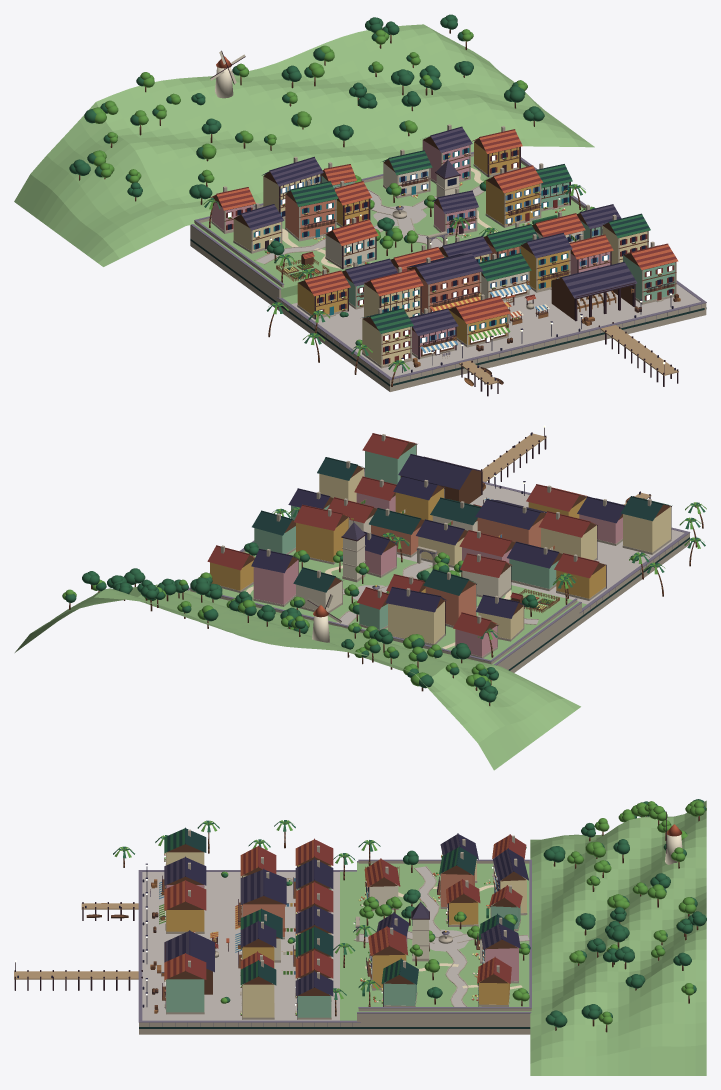
Rendered from port.glb.
The picture shows the model from 3 angles, top to bottom: view 1: azimuth 30°, elevation 25°; view 2: azimuth 150°, elevation 25°; view 3: azimuth 270°, elevation 25°; orthographic projection. The views are drawn at different scales.
Visible parts, largest first — view 1: ground_grass_colline, props, ground_cobble, ground_grass_haute, bldg_chantier, bldg_taverne, bldg_haut_se2, bldg_haut_no2, bldg_maison_w1, bldg_maison_e1, bldg_magasin, bldg_maison_n1 (+26 smaller); view 2: props, ground_grass_colline, ground_grass_haute, bldg_haut_no5, ground_cobble, bldg_maison_w1, bldg_haut_se2, bldg_chantier, bldg_taverne, bldg_haut_ne2, bldg_maison_n1, bldg_fond1 (+24 smaller); view 3: ground_grass_colline, props, ground_cobble, ground_grass_haute, ground_grass, bldg_maison_e1, bldg_magasin, bldg_taverne, bldg_maison_n4, bldg_fond6, bldg_haut_se2, bldg_haut_se3 (+28 smaller).
Boxes of the visible parts, x1,y1,x2,y2 form: ground_grass_colline: (14, 24, 594, 266); props: (69, 14, 706, 396); ground_cobble: (291, 284, 700, 377); ground_grass_haute: (194, 156, 585, 297); bldg_chantier: (551, 261, 636, 323); bldg_taverne: (406, 252, 482, 314); bldg_haut_se2: (485, 165, 542, 227); bldg_haut_no2: (283, 180, 338, 241); bldg_maison_w1: (362, 308, 413, 368); bldg_maison_e1: (623, 241, 678, 304); bldg_magasin: (446, 294, 510, 347); bldg_maison_n1: (363, 267, 423, 317); props: (62, 425, 706, 705); ground_grass_colline: (15, 584, 580, 770); ground_grass_haute: (189, 550, 579, 664); bldg_haut_no5: (385, 586, 446, 645); ground_cobble: (364, 472, 684, 604); bldg_maison_w1: (621, 496, 672, 554); bldg_haut_se2: (294, 504, 349, 564); bldg_chantier: (398, 454, 483, 503); bldg_taverne: (475, 499, 546, 547); bldg_haut_ne2: (251, 548, 299, 606); bldg_maison_n1: (539, 511, 597, 560); bldg_fond1: (507, 541, 562, 590); ground_grass_colline: (530, 800, 706, 1075); props: (14, 799, 706, 1034); ground_cobble: (142, 872, 339, 1020); ground_grass_haute: (357, 862, 530, 1011); ground_grass: (340, 871, 356, 1020); bldg_maison_e1: (162, 953, 206, 1014); bldg_magasin: (159, 880, 206, 933); bldg_taverne: (235, 868, 286, 939); bldg_maison_n4: (240, 960, 276, 1019); bldg_fond6: (295, 971, 333, 1019); bldg_haut_se2: (366, 926, 408, 990); bldg_haut_se3: (381, 958, 418, 1006).
Size of the model in its own units: 132 by 31.03 by 164.
